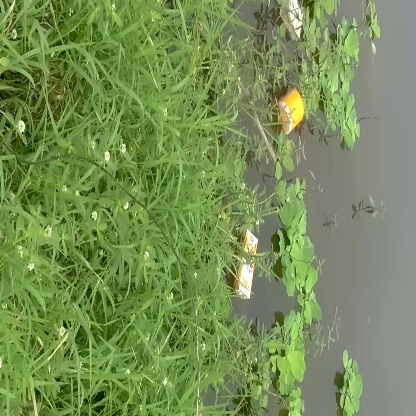bottle: (274, 86, 312, 142)
milk-box: (230, 227, 263, 301)
